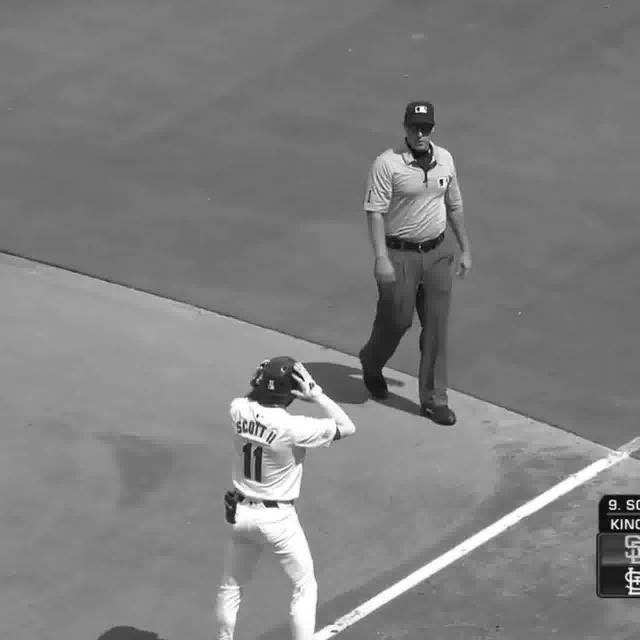shoe: (358, 350, 392, 400), (419, 395, 459, 424)
